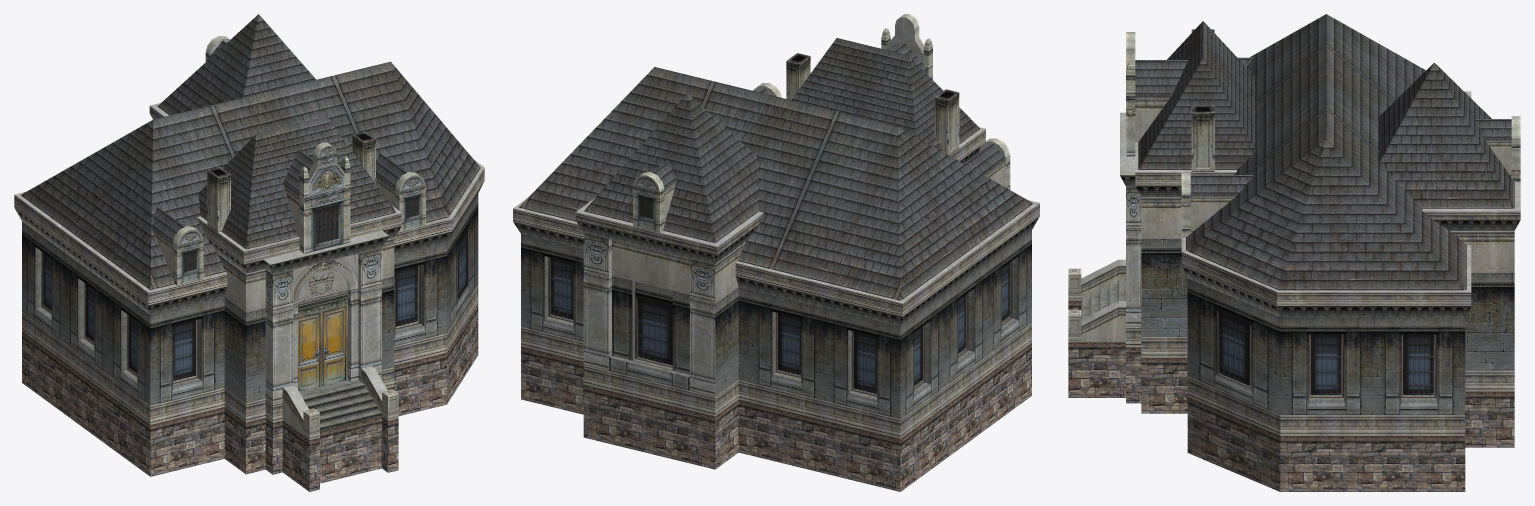
Rendered from rd_vil2.glb.
The picture shows the model from 3 angles, left to right: view 1: azimuth 30°, elevation 25°; view 2: azimuth 150°, elevation 25°; view 3: azimuth 270°, elevation 25°; orthographic projection. The views are drawn at different scales.
Parts seen in each view (by area): view 1: rd_vil2-col; view 2: rd_vil2-col; view 3: rd_vil2-col.
Part boxes in pixels (x1,y1,x2,y2): rd_vil2-col: [14, 14, 484, 491]; rd_vil2-col: [513, 14, 1039, 491]; rd_vil2-col: [1068, 14, 1520, 491].
Bounding box in the file's own units: 20.53 × 16.76 × 19.57.
Materials: 11 (11 with a texture image).
